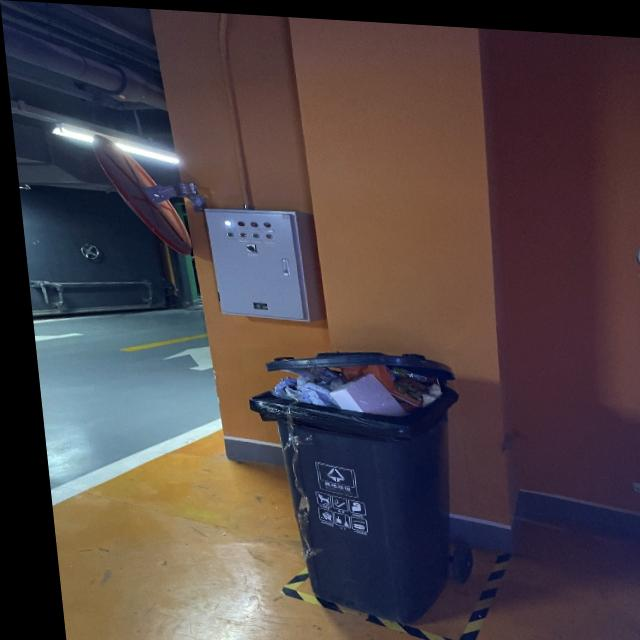overflow: (234, 341, 469, 624)
